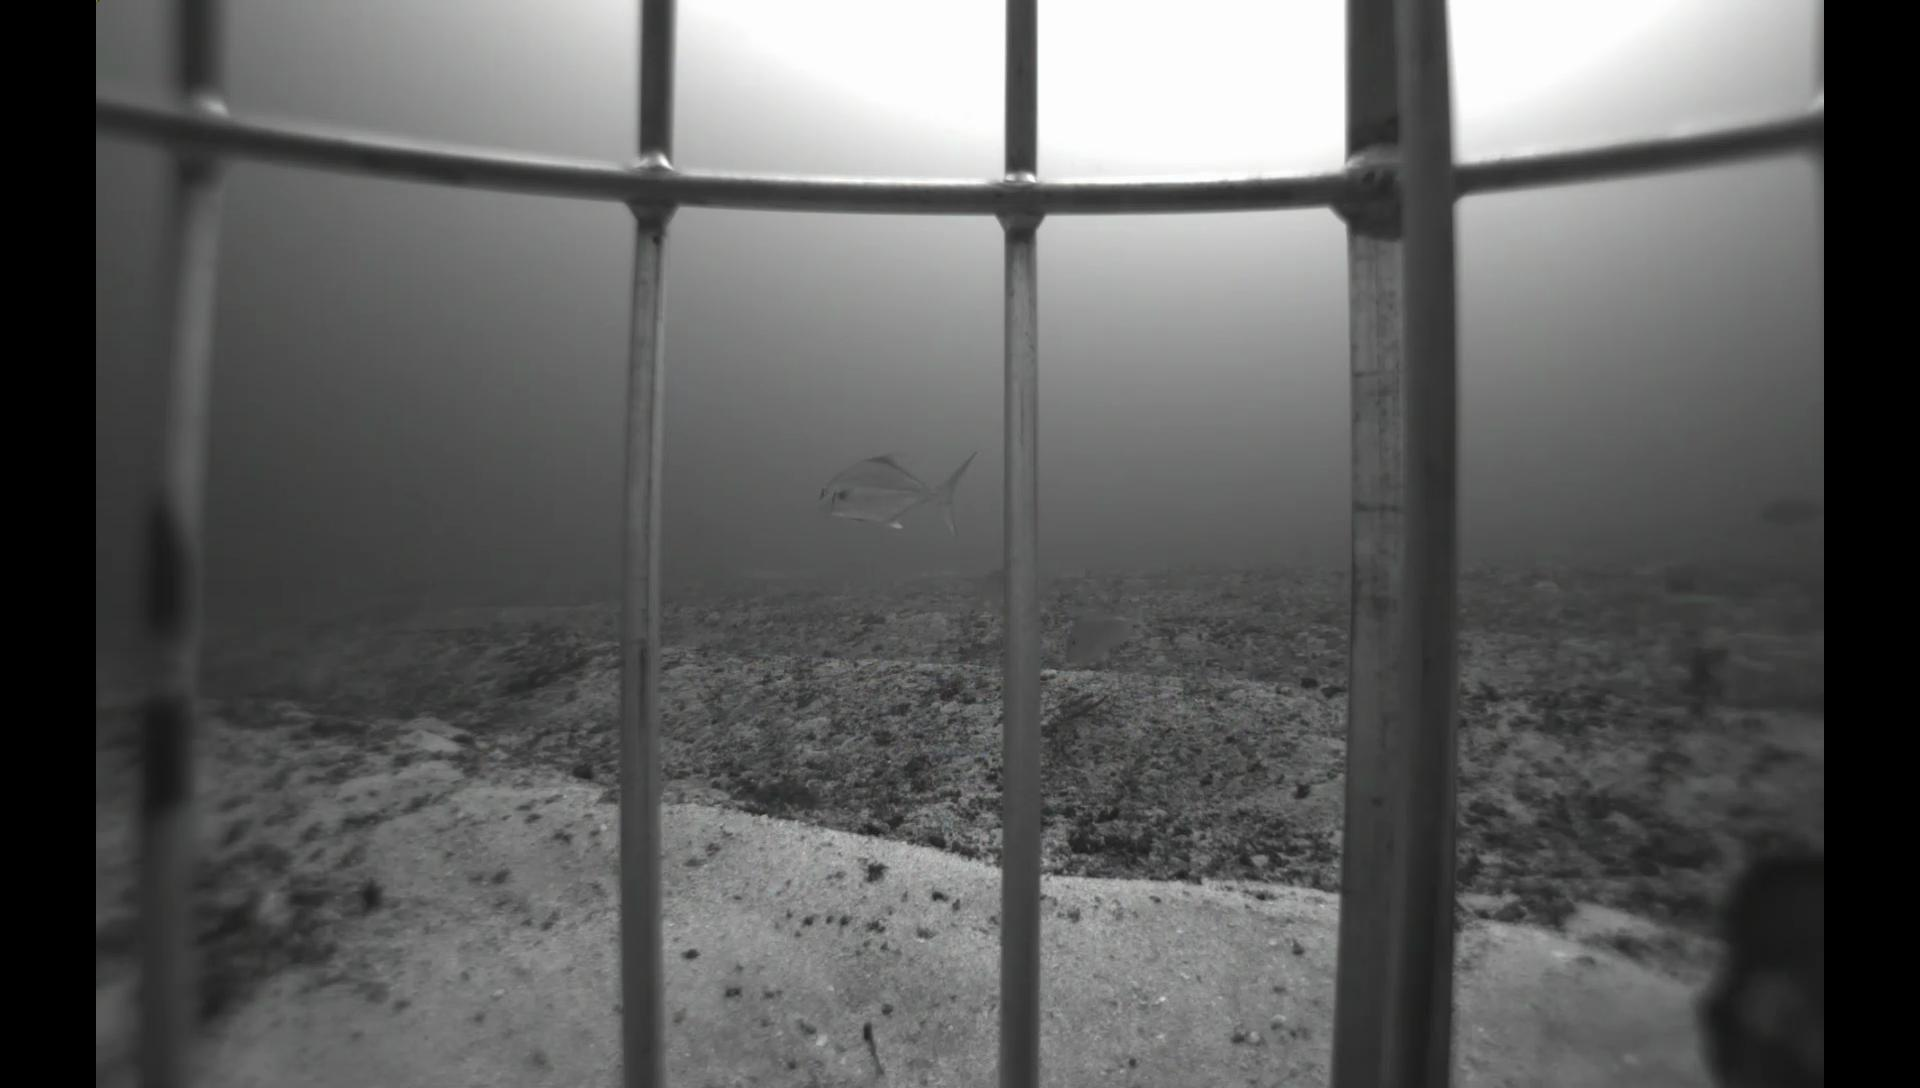CALAMUS-170210600: (1062, 599, 1150, 669), (973, 566, 1005, 619)
EPINEPHELUSMORIO-170021211: (1639, 785, 1837, 1088), (1739, 489, 1822, 531)
SERIOLARIVOLIANA-170113105: (807, 444, 982, 553)
